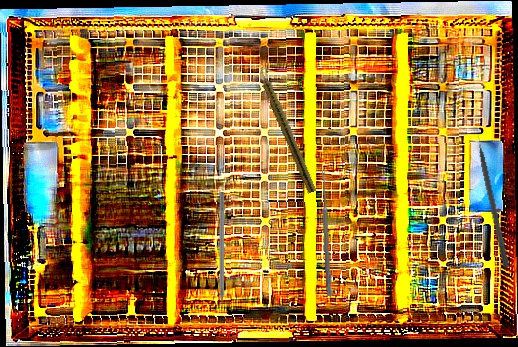Handpiece: (254, 64, 320, 194)
Hook Surgical: (218, 192, 224, 316)
Pusher: (472, 124, 512, 270)
Surgical Spoon: (320, 169, 333, 297)
